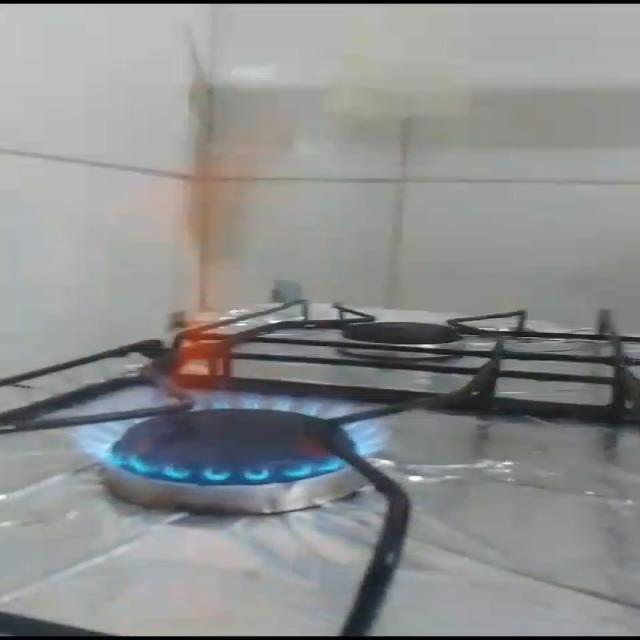fire: (63, 137, 396, 507)
